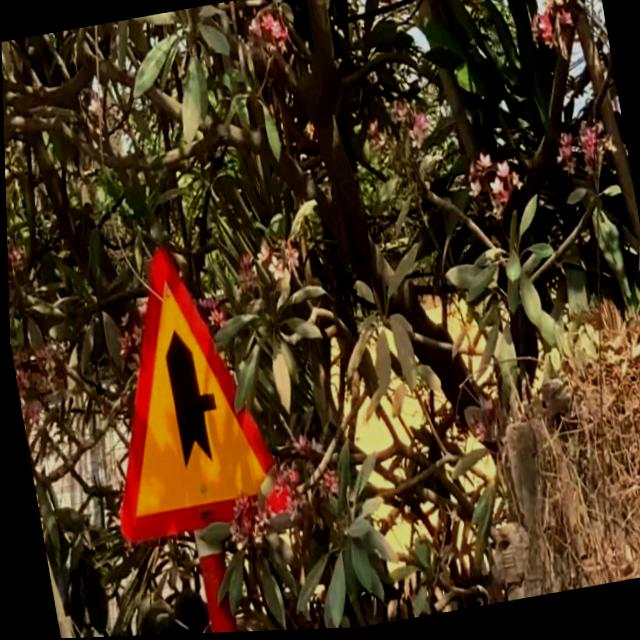Giao nhau voi duong khong uu tien ben phai: (57, 204, 305, 569)
